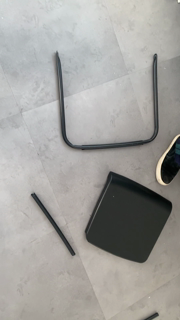C pipe: (53, 50, 163, 152)
Seat: (82, 168, 175, 267)
i pipe: (29, 189, 80, 259)
